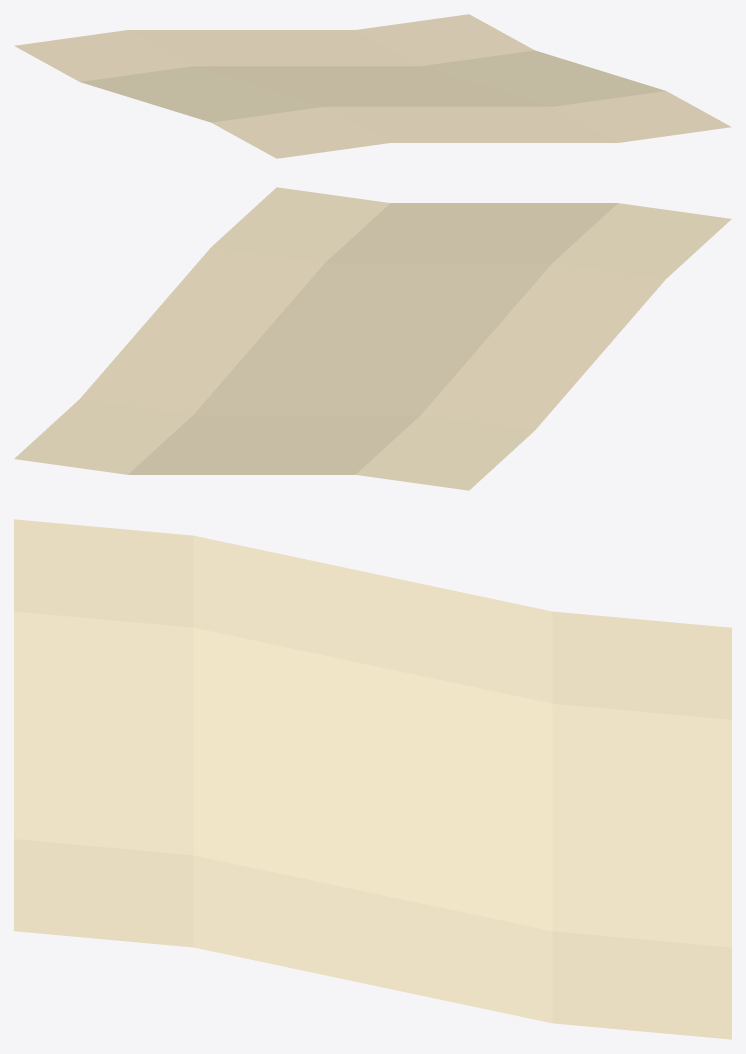
The model's file is Beach_Terrain_Sand_Side_Overlap_Side.glb.
3 renders of one model, top to bottom at view 1: azimuth 30°, elevation 25°; view 2: azimuth 150°, elevation 25°; view 3: azimuth 270°, elevation 25°, orthographic. The views are drawn at different scales.
Visible parts, largest first — view 1: Beach_Terrain_Sand_Side_Overlap_Side; view 2: Beach_Terrain_Sand_Side_Overlap_Side; view 3: Beach_Terrain_Sand_Side_Overlap_Side.
Part boxes in pixels (bbox=[...]): Beach_Terrain_Sand_Side_Overlap_Side: bbox=[14, 14, 731, 158]; Beach_Terrain_Sand_Side_Overlap_Side: bbox=[14, 187, 731, 490]; Beach_Terrain_Sand_Side_Overlap_Side: bbox=[14, 519, 731, 1039].
Bounding box in the file's own units: 3 × 1 × 3.
